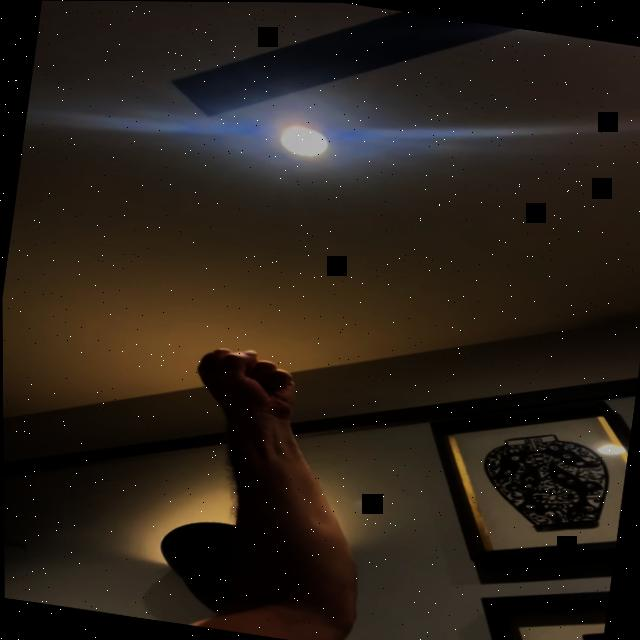Rock: (191, 341, 303, 420)
